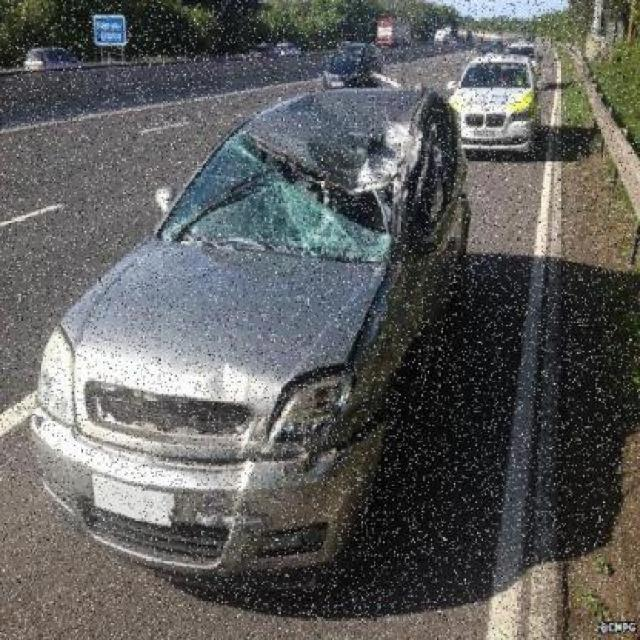Front-Windscreen-Damage: (165, 145, 398, 263)
Headlight-Damage: (248, 343, 375, 479)
bonnet-dent: (59, 277, 385, 421)
front-bumper-dent: (49, 471, 350, 587)
roof-dent: (232, 82, 444, 186)
